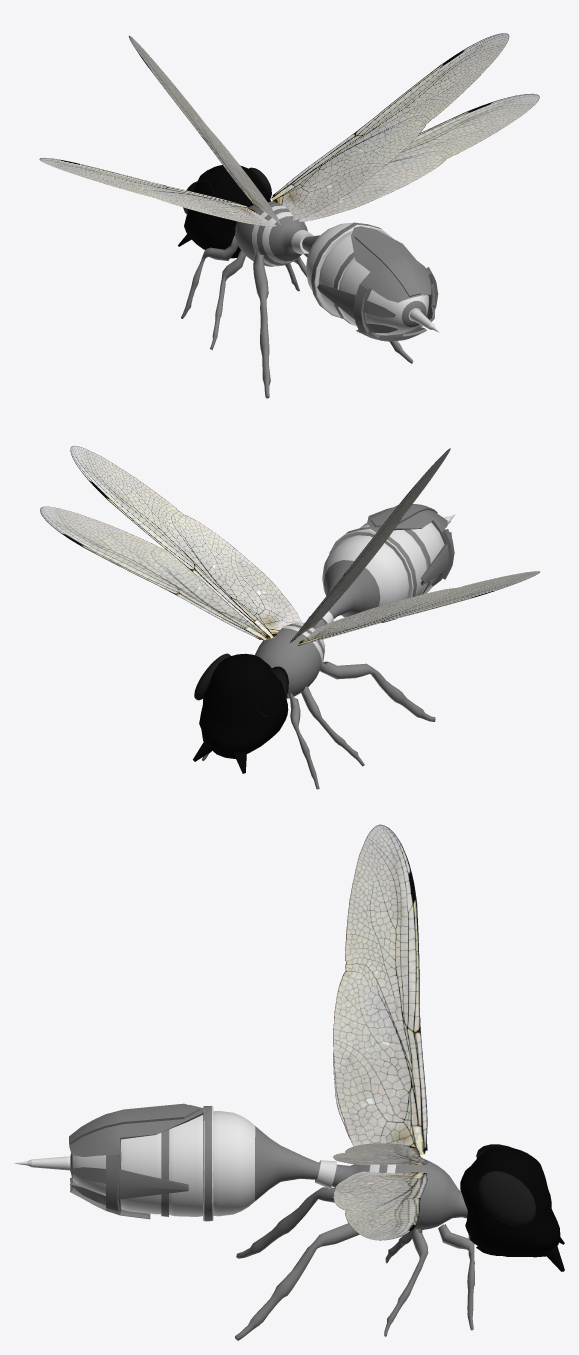
File: plo.obj
The picture shows the model from 3 angles, top to bottom: view 1: azimuth 30°, elevation 25°; view 2: azimuth 150°, elevation 25°; view 3: azimuth 270°, elevation 25°; orthographic projection. The views are drawn at different scales.
Parts seen in each view (by area): view 1: pPlane3, polySurface2 polySurface1, pPlane2, polySurface1 polySurface3, pPlane1, DRAGNFLY:dfly_body, pSphere1, pPlane4; view 2: pPlane3, polySurface2 polySurface1, pSphere1, pPlane2, pPlane1, DRAGNFLY:dfly_body, pPlane4, polySurface1 polySurface3, pSphere2; view 3: pPlane4, polySurface2 polySurface1, polySurface1 polySurface3, pSphere1, DRAGNFLY:dfly_body, pPlane2, pSphere2, pPlane3.
Part boxes in pixels (x1=…): pPlane3: x1=271, y1=33, x2=509, y2=221; polySurface2 polySurface1: x1=235, y1=201, x2=439, y2=335; pPlane2: x1=299, y1=93, x2=539, y2=221; polySurface1 polySurface3: x1=317, y1=226, x2=438, y2=341; pPlane1: x1=39, y1=158, x2=276, y2=226; DRAGNFLY:dfly_body: x1=181, y1=236, x2=413, y2=398; pSphere1: x1=178, y1=165, x2=270, y2=258; pPlane4: x1=128, y1=35, x2=281, y2=225; pPlane3: x1=70, y1=445, x2=301, y2=638; polySurface2 polySurface1: x1=255, y1=514, x2=455, y2=698; pSphere1: x1=193, y1=653, x2=288, y2=773; pPlane2: x1=40, y1=506, x2=269, y2=640; pPlane1: x1=296, y1=571, x2=539, y2=645; DRAGNFLY:dfly_body: x1=202, y1=661, x2=435, y2=789; pPlane4: x1=290, y1=448, x2=450, y2=642; polySurface1 polySurface3: x1=367, y1=504, x2=454, y2=594; pSphere2: x1=194, y1=653, x2=230, y2=700; pPlane4: x1=333, y1=824, x2=427, y2=1155; polySurface2 polySurface1: x1=14, y1=1106, x2=467, y2=1230; polySurface1 polySurface3: x1=69, y1=1103, x2=204, y2=1219; pSphere1: x1=460, y1=1147, x2=564, y2=1271; DRAGNFLY:dfly_body: x1=235, y1=1187, x2=474, y2=1340; pPlane2: x1=333, y1=1171, x2=427, y2=1240; pSphere2: x1=478, y1=1171, x2=536, y2=1225; pPlane3: x1=333, y1=1143, x2=427, y2=1164.
Bounding box in the file's own units: 6.9 × 4.43 × 5.58.
Materials: 6 (1 with a texture image).
